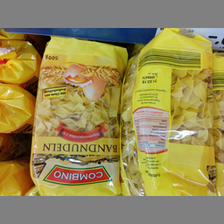pasta: (123, 28, 218, 195), (30, 35, 127, 196)
